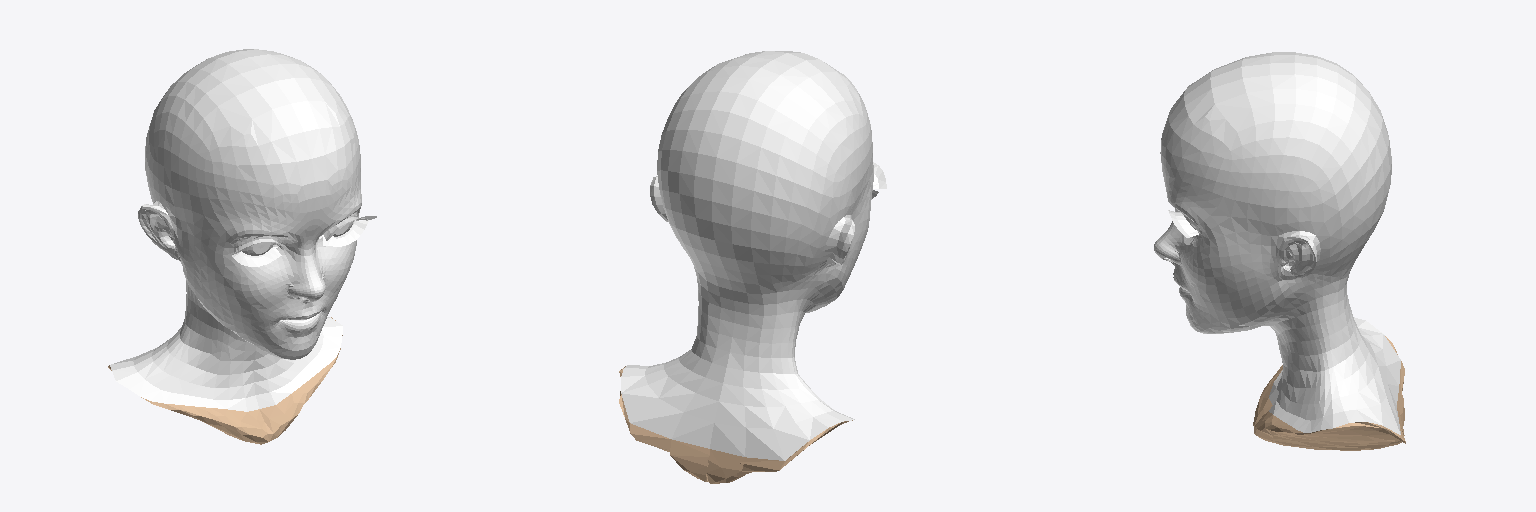
The picture shows the model from 3 angles: view 1: azimuth 30°, elevation 25°; view 2: azimuth 150°, elevation 25°; view 3: azimuth 270°, elevation 25°; orthographic projection.
Visible parts, largest first — view 1: Body, Eyelashes; view 2: Body; view 3: Body.
Boxes of the visible parts, box(x1,y1,x2,y2) form: Body: box(110, 49, 361, 411); Eyelashes: box(232, 216, 376, 266); Body: box(621, 51, 873, 460); Body: box(1154, 52, 1400, 434).
Bounding box in the file's own units: 23 × 37.41 × 22.09.